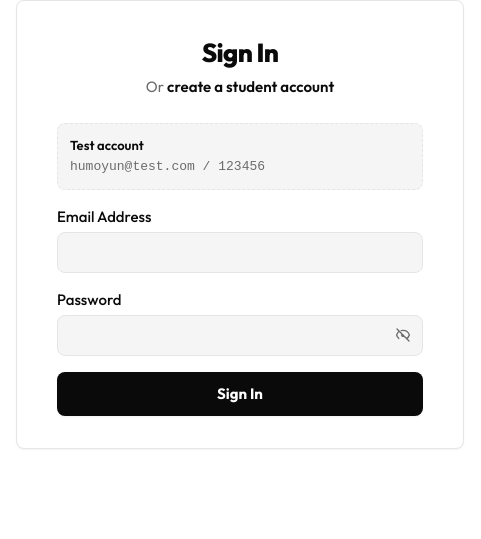
AuthPanel › switching between sign in and create account › clears a login error when switching to create account
The image size is (481, 539).
Type "s@example.com" into the field labelled "Email Address".
click(240, 252); type("s@example.com")  # box [57, 232, 423, 272]
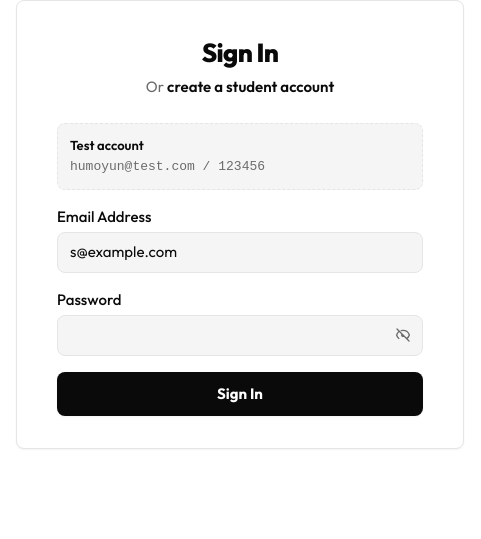
Type "Test1234!" into the password field labelled "Password".
click(240, 335); type("Test1234!")  # box [57, 315, 423, 356]
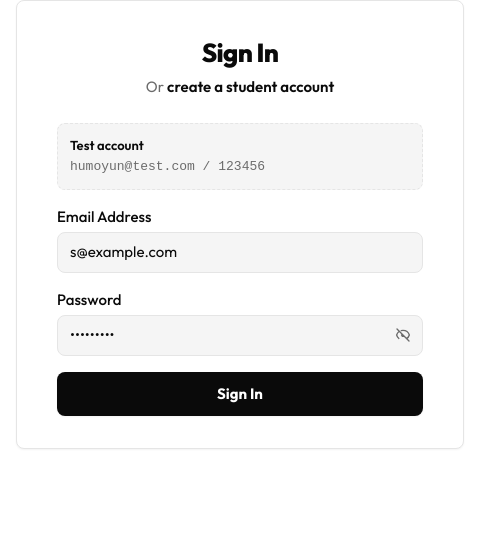
Click the button "Sign In".
click(240, 394)  # box [57, 372, 423, 416]
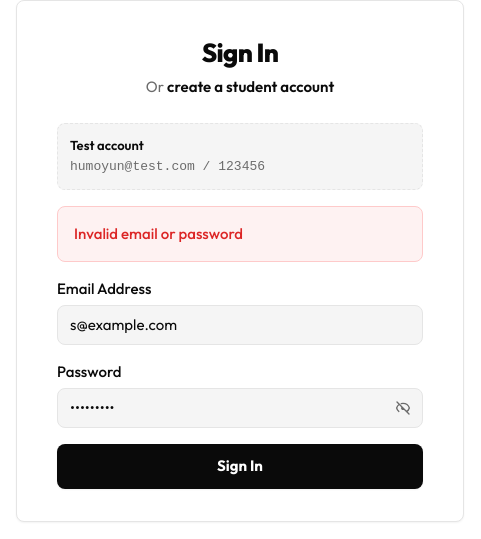
expect the text "Invalid email or password" is shown: met, box [74, 224, 243, 242]
Click the button "create a student account".
click(251, 87)  # box [167, 76, 334, 98]
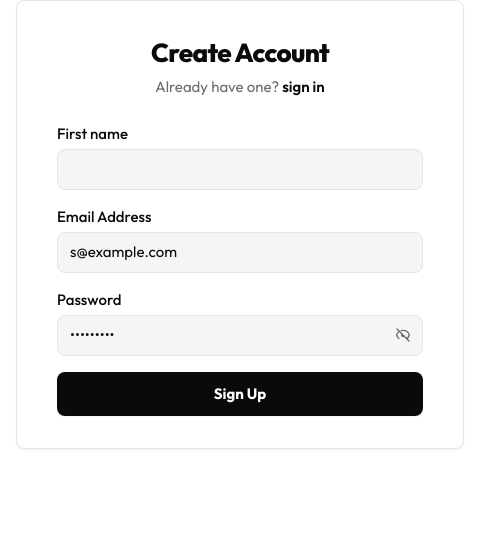
expect the text "Invalid email or password" is gone: met
